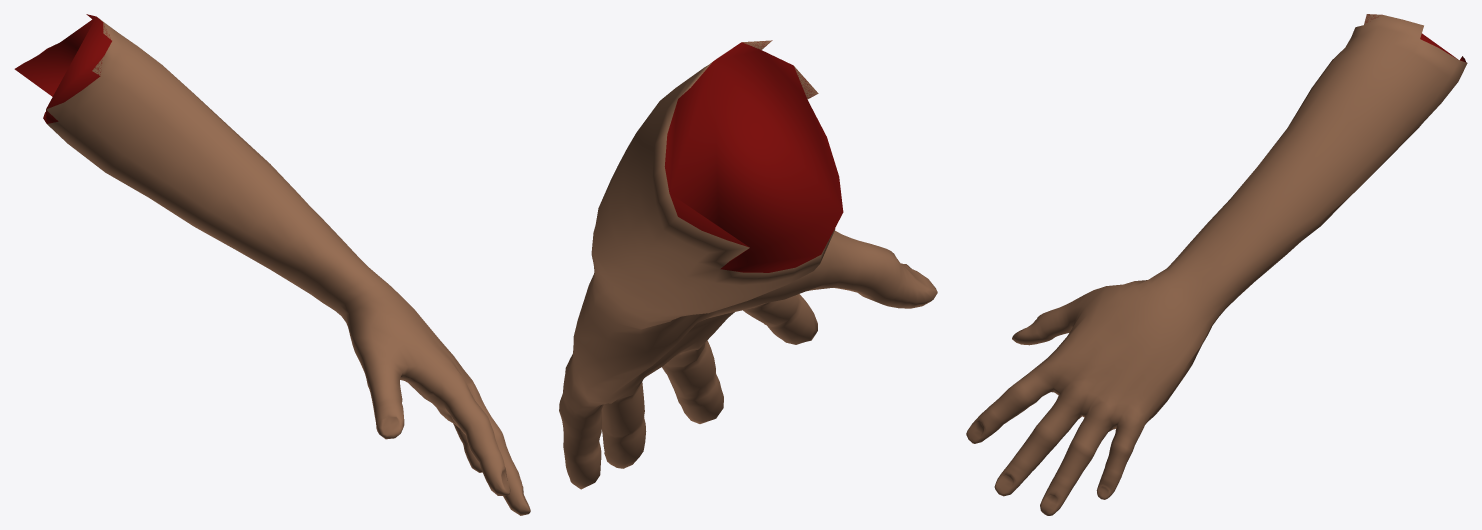
Rendered from SM_Part_F2_arm_l.gltf.
The picture shows the model from 3 angles, left to right: view 1: azimuth 30°, elevation 25°; view 2: azimuth 150°, elevation 25°; view 3: azimuth 270°, elevation 25°; orthographic projection. The views are drawn at different scales.
Visible parts, largest first — view 1: SM_Part_F2_arm_l; view 2: SM_Part_F2_arm_l; view 3: SM_Part_F2_arm_l.
Boxes of the visible parts, box(x1,y1,x2,y2) form: SM_Part_F2_arm_l: box(14, 14, 530, 515); SM_Part_F2_arm_l: box(559, 40, 937, 489); SM_Part_F2_arm_l: box(966, 14, 1467, 515).
Bounding box in the file's own units: 0.1997 × 0.2609 × 0.3044.
